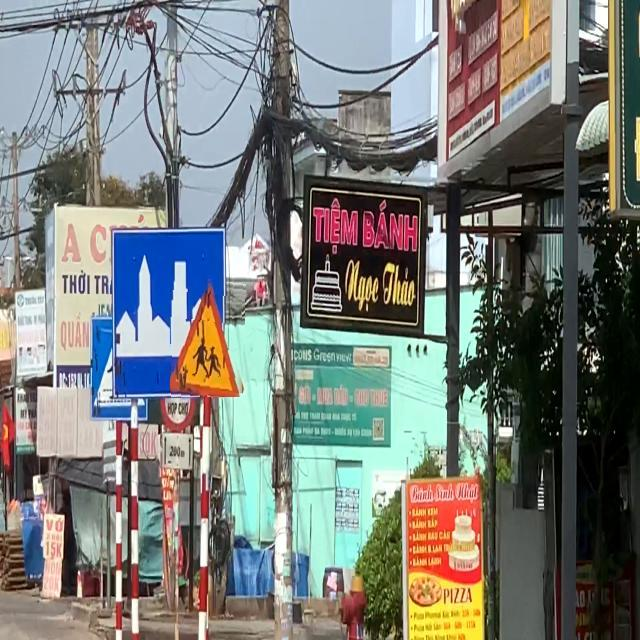W-225: (170, 276, 246, 397)
